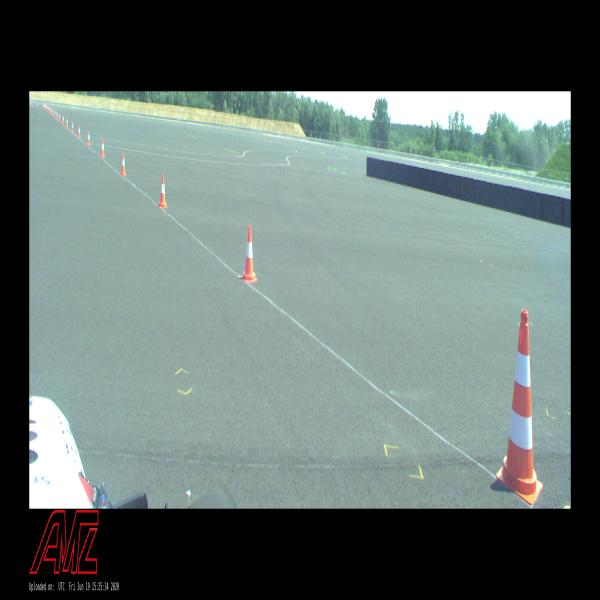large_orange_cone: (496, 310, 543, 505)
orange_cone: (241, 226, 257, 282), (158, 174, 167, 208), (120, 152, 126, 175), (101, 138, 105, 157), (87, 130, 90, 146), (78, 124, 81, 138), (71, 122, 74, 132), (66, 118, 68, 128), (56, 110, 58, 119), (62, 115, 64, 123), (59, 114, 61, 120), (50, 107, 52, 113), (54, 110, 56, 116), (48, 106, 50, 112), (52, 109, 53, 116), (37, 101, 38, 107), (30, 100, 31, 106), (48, 105, 49, 111), (46, 104, 47, 110), (45, 104, 46, 109), (44, 103, 44, 108)
